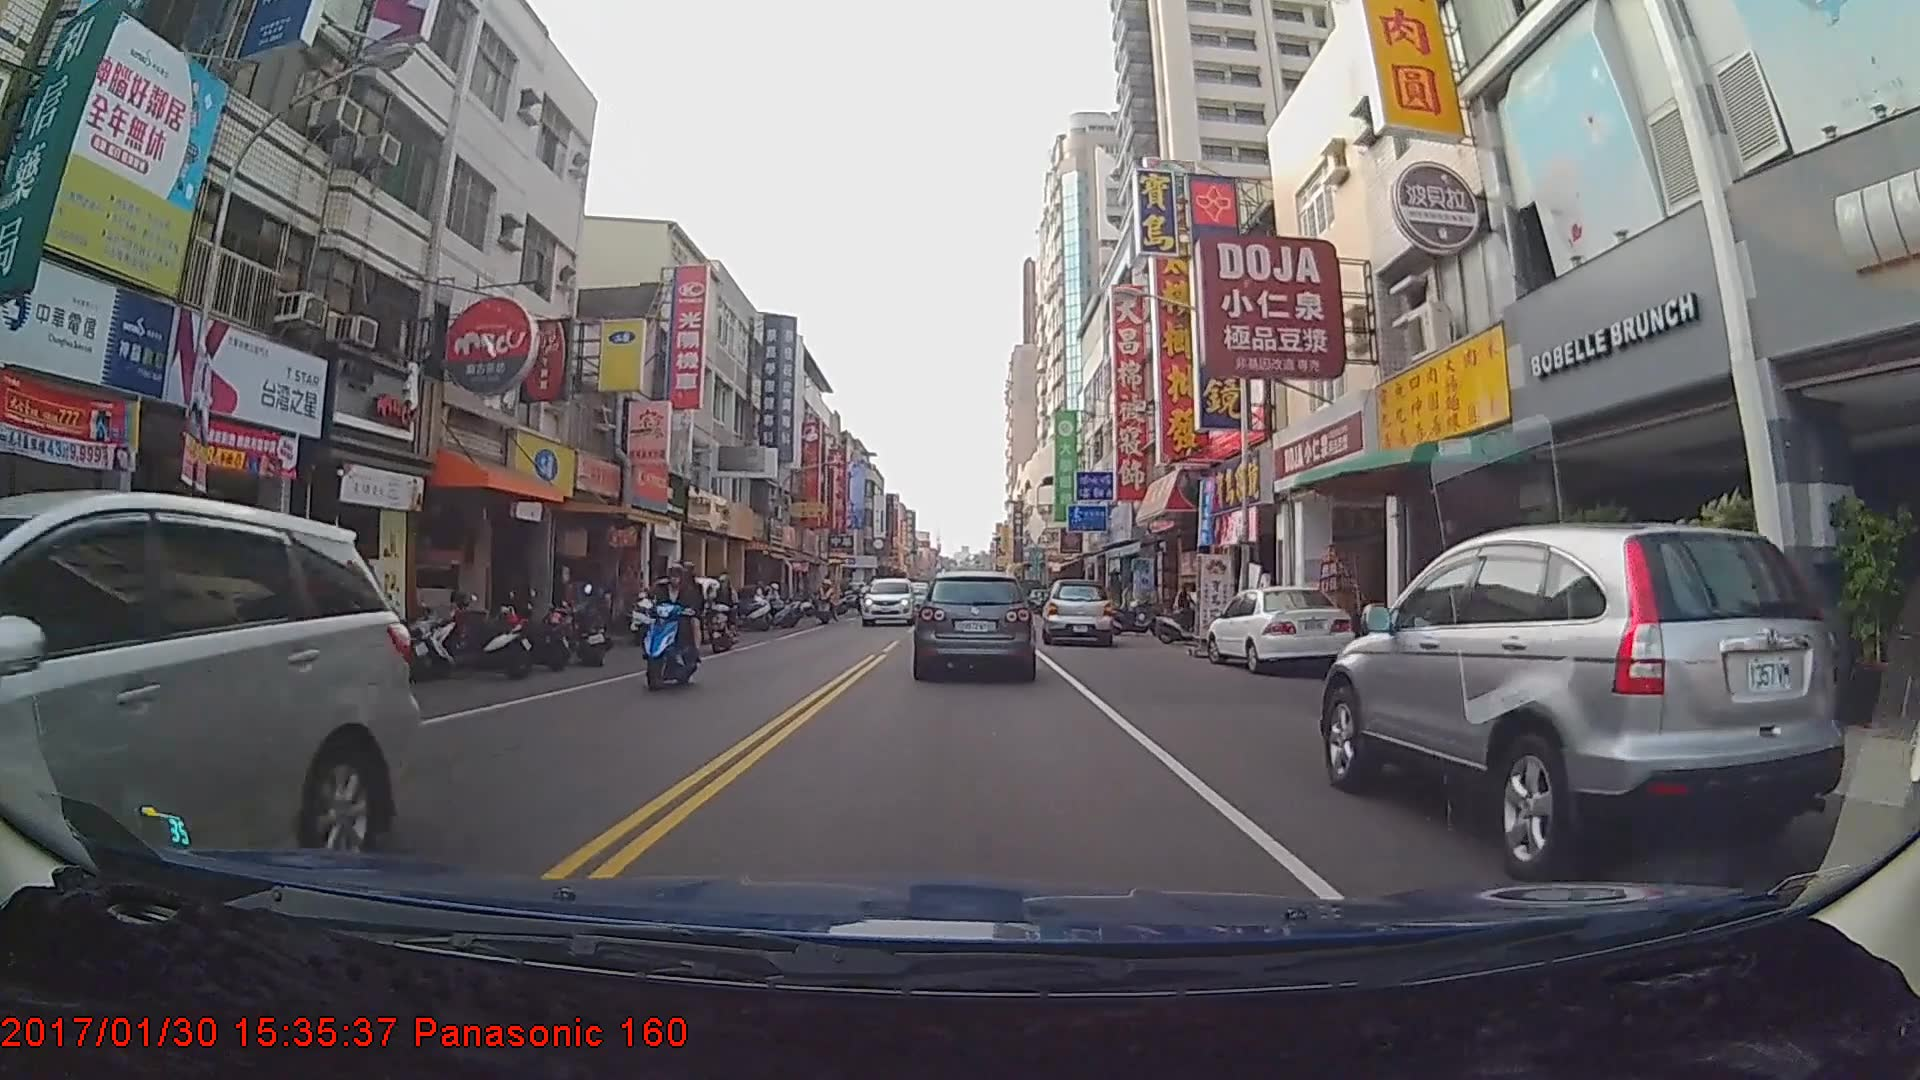rider: (638, 556, 694, 695), (1157, 583, 1215, 647)
vehicle: (0, 488, 423, 995), (1321, 521, 1844, 879), (1203, 584, 1353, 673), (915, 569, 1033, 679), (626, 575, 739, 644), (1040, 579, 1116, 647), (860, 577, 921, 627)
